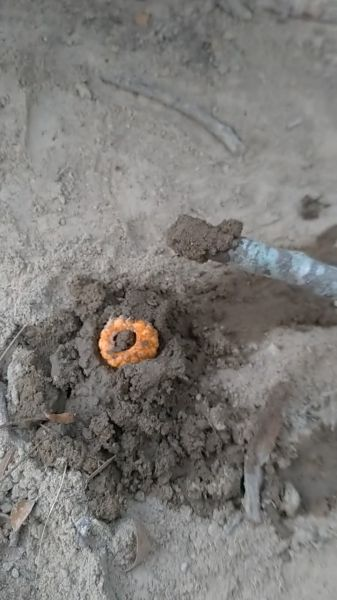eggs: (91, 316, 166, 373)
